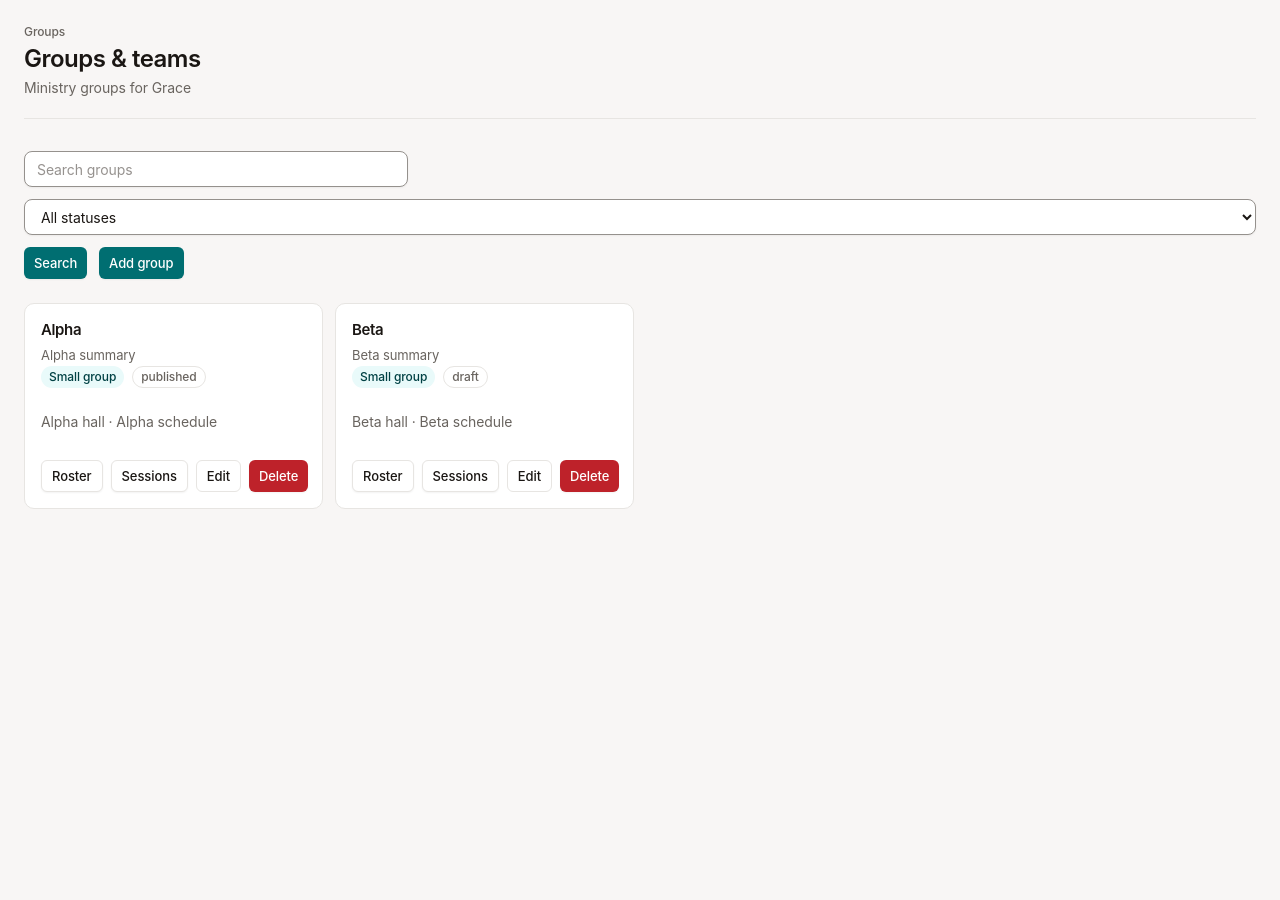
it: outstanding requests completing after a switch › roster: a conflict for A arriving after switching does not appear on B
Click the button "Roster" below "Alpha hall ·" at (72, 476), box [41, 460, 102, 492]
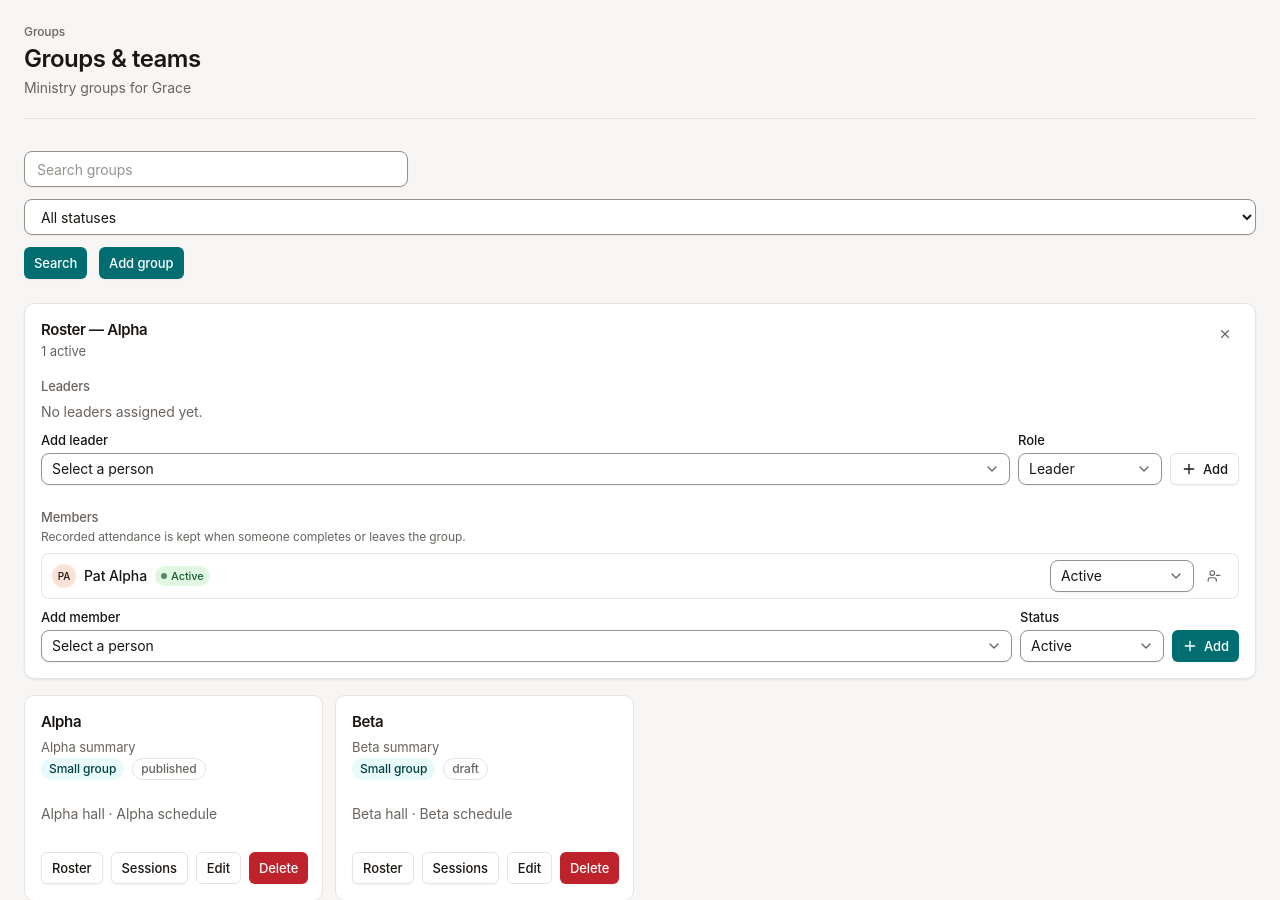
Click the button named "Remove Pat Alpha from group" at (1214, 576), box [1200, 562, 1228, 590]
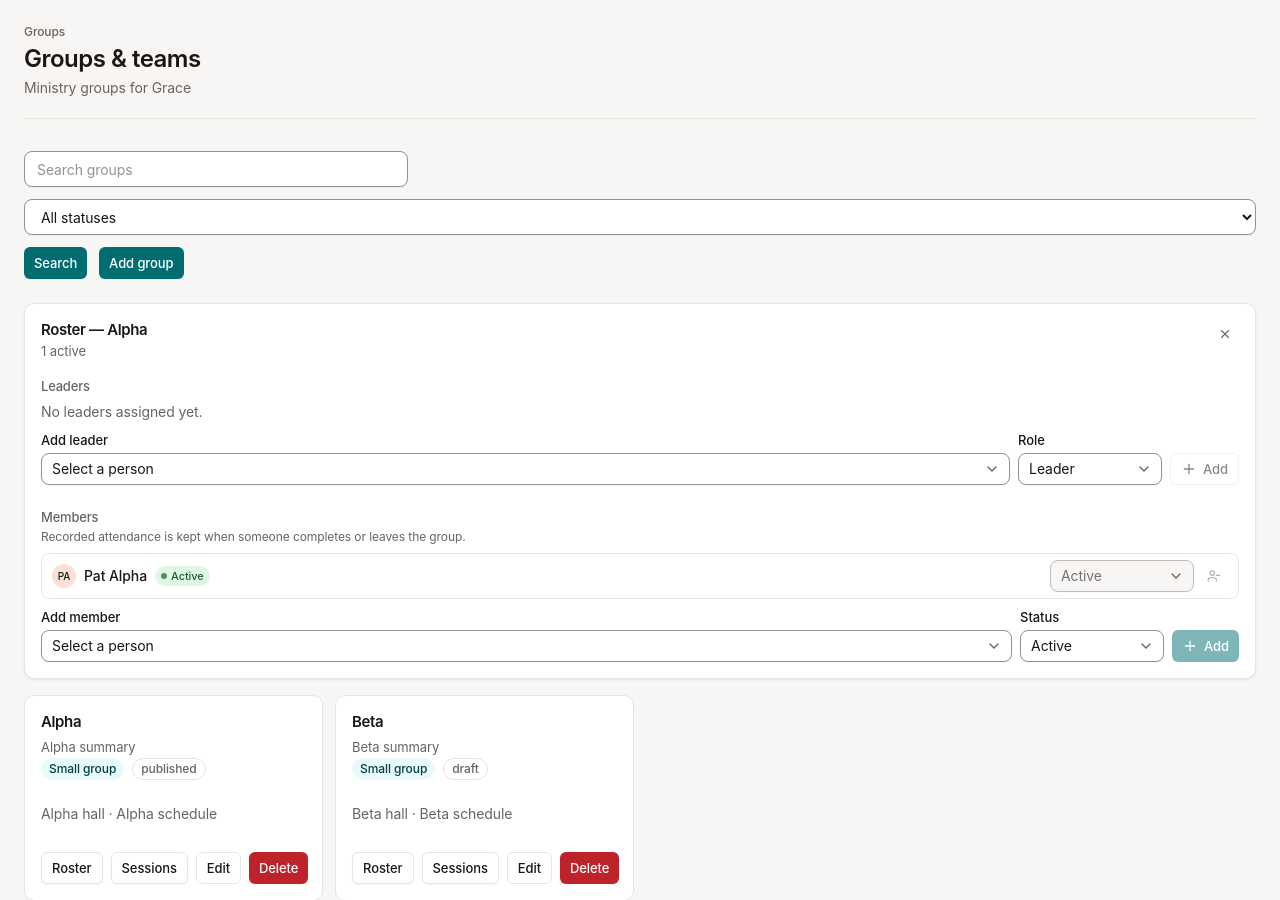
Click the button "Roster" below "Beta hall ·" at (383, 868), box [352, 852, 414, 884]
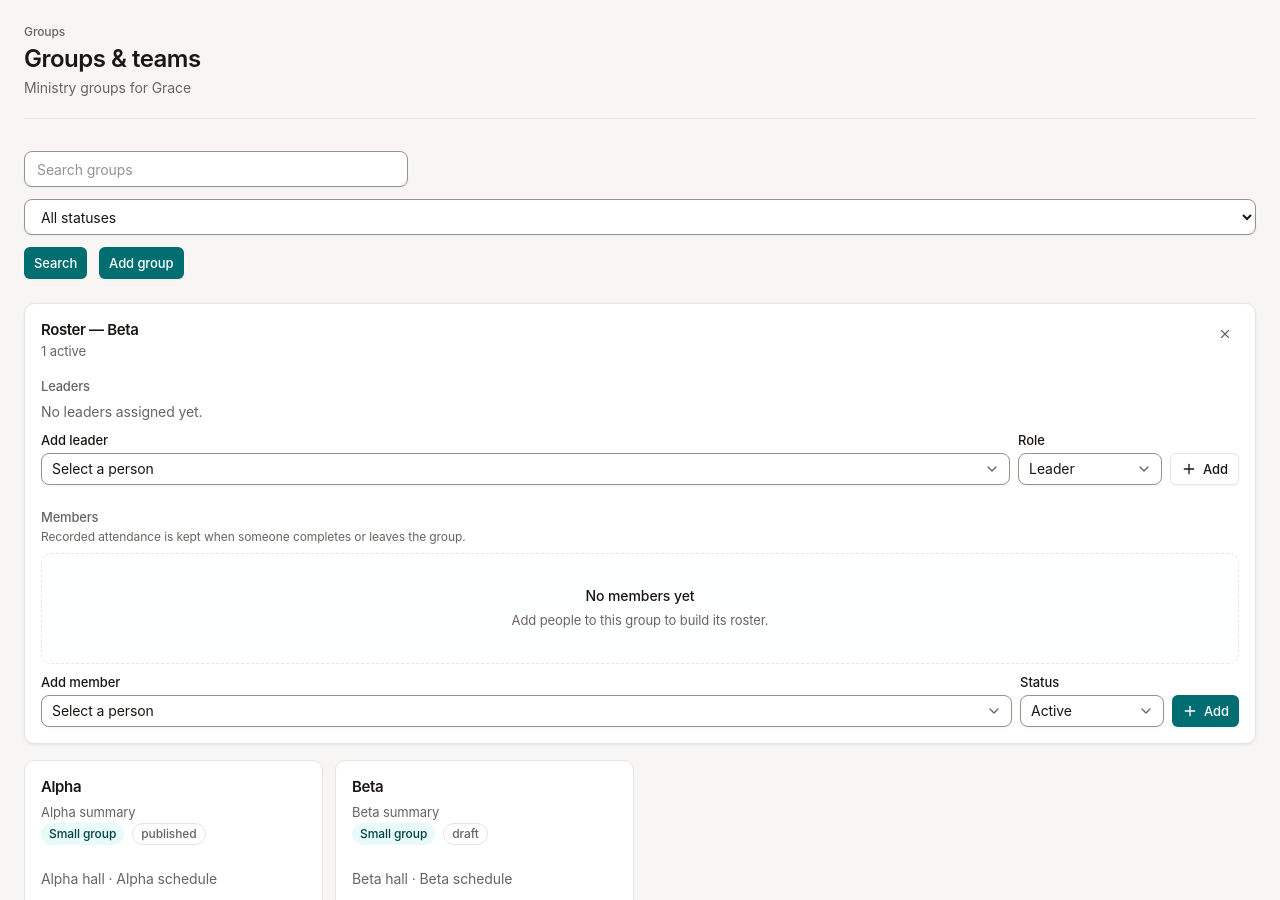
Now the button "Add" below "Role" is enabled, box [1170, 453, 1239, 485]
